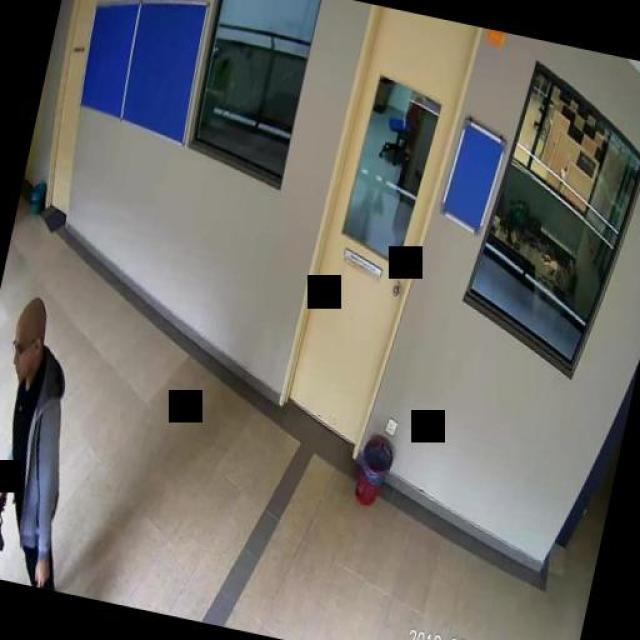gun: (0, 492, 12, 548)
